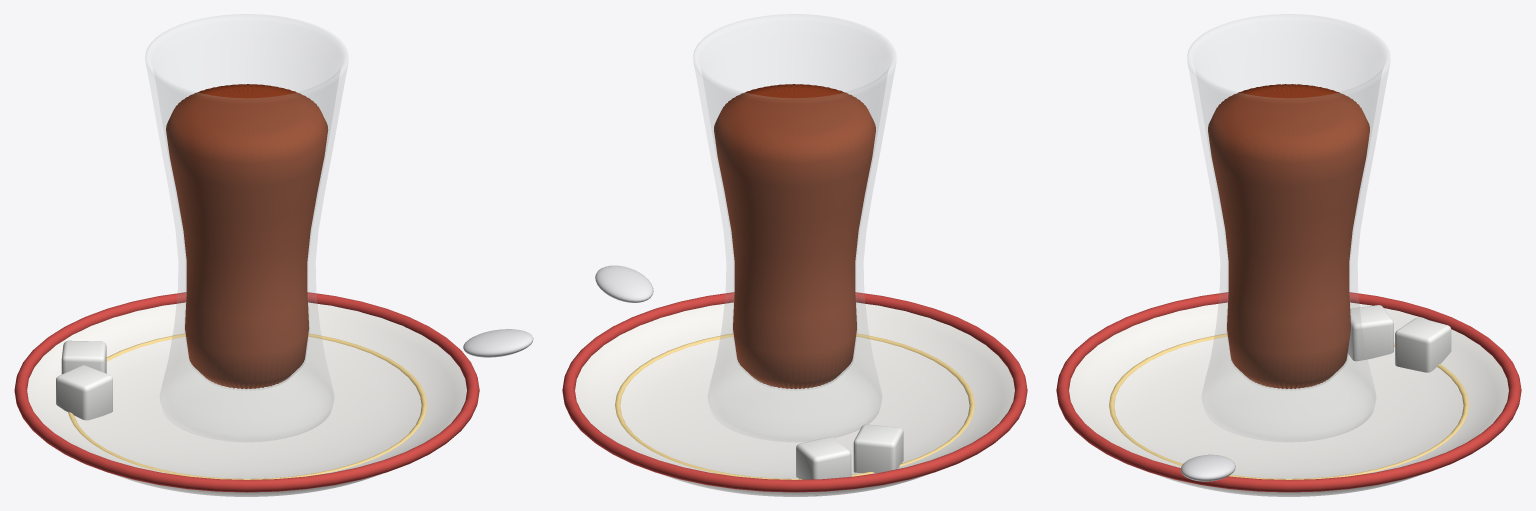
The model's file is tea_set.glb.
The picture shows the model from 3 angles, left to right: view 1: azimuth 30°, elevation 25°; view 2: azimuth 150°, elevation 25°; view 3: azimuth 270°, elevation 25°; orthographic projection.
Parts seen in each view (by area): view 1: tea_glass, saucer, tea, saucer_rim, sugar_0, saucer_gold, spoon_bowl, sugar_1; view 2: tea_glass, saucer, tea, saucer_rim, saucer_gold, sugar_0, sugar_1, spoon_bowl; view 3: tea_glass, saucer, tea, saucer_rim, sugar_1, sugar_0, saucer_gold, spoon_bowl.
Boxes of the visible parts, x1,y1,x2,y2 form: tea_glass: (145, 14, 348, 442); saucer: (27, 302, 466, 496); tea: (166, 84, 328, 388); saucer_rim: (14, 292, 479, 492); sugar_0: (56, 365, 112, 420); saucer_gold: (68, 333, 426, 479); spoon_bowl: (463, 329, 533, 357); sugar_1: (61, 340, 106, 373); tea_glass: (693, 14, 896, 442); saucer: (575, 302, 1014, 496); tea: (714, 84, 875, 388); saucer_rim: (562, 292, 1027, 492); saucer_gold: (615, 333, 974, 479); sugar_0: (853, 424, 903, 472); sugar_1: (796, 437, 851, 496); spoon_bowl: (595, 265, 653, 302); tea_glass: (1187, 14, 1390, 442); saucer: (1069, 302, 1508, 496); tea: (1208, 84, 1369, 388); saucer_rim: (1056, 292, 1521, 492); sugar_1: (1395, 317, 1451, 372); sugar_0: (1348, 305, 1393, 361); saucer_gold: (1109, 333, 1468, 479); spoon_bowl: (1180, 454, 1235, 481).
Size of the model in its own units: 0.1291 by 0.1049 by 0.1178.
